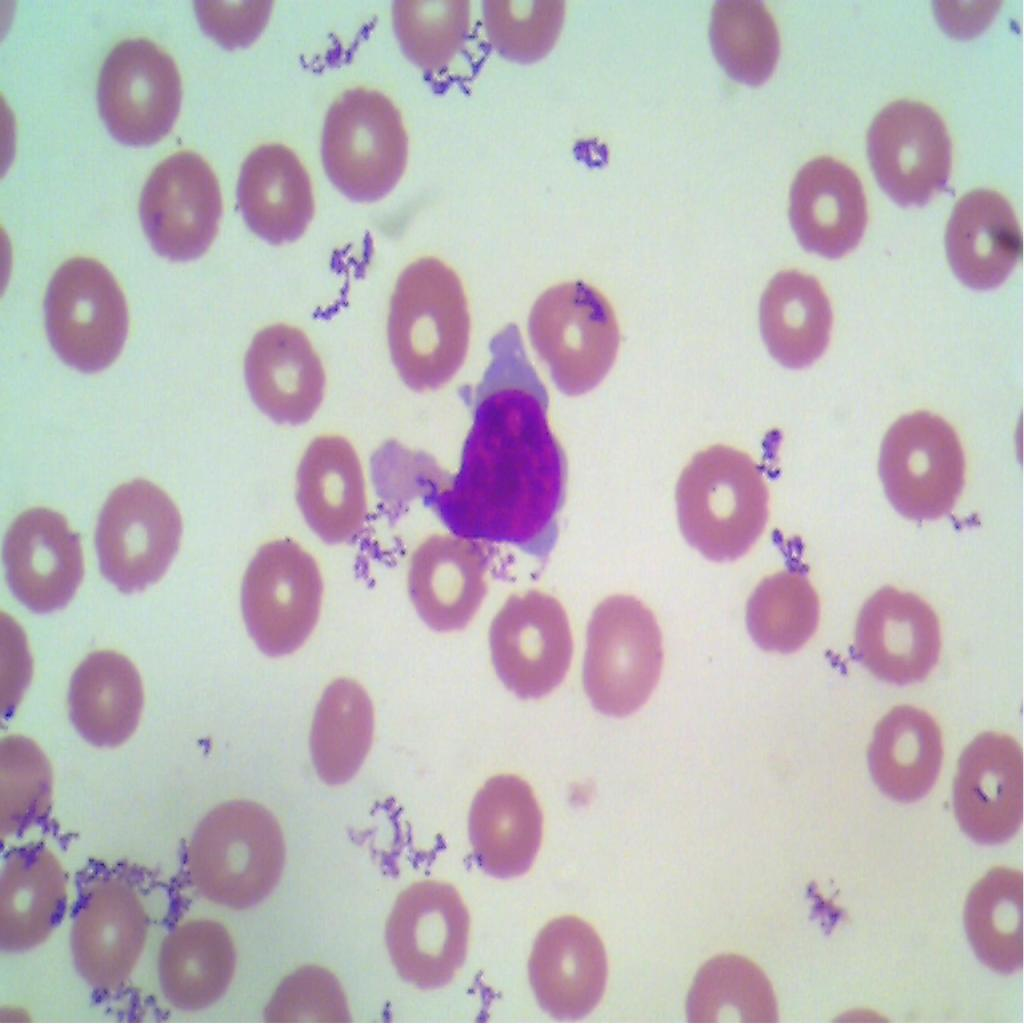Eritrosit: (666, 432, 776, 561), (90, 28, 196, 157), (383, 251, 475, 399), (455, 761, 553, 898), (89, 478, 190, 610), (573, 584, 664, 728), (131, 142, 231, 272), (39, 248, 135, 382), (182, 790, 288, 906), (238, 538, 328, 672), (526, 271, 618, 401), (486, 584, 578, 714), (858, 92, 959, 210), (321, 74, 409, 208), (749, 258, 844, 381), (378, 874, 473, 994), (870, 411, 968, 527), (226, 134, 322, 248), (855, 699, 958, 804), (0, 501, 88, 621), (934, 178, 1023, 296), (150, 900, 238, 1018), (398, 530, 486, 648), (59, 874, 149, 988), (241, 311, 326, 428), (524, 900, 604, 1023), (290, 428, 372, 545), (958, 847, 1023, 988), (858, 581, 942, 688), (302, 669, 378, 787), (782, 154, 866, 260), (949, 724, 1023, 842), (69, 645, 146, 754), (0, 838, 68, 958), (746, 568, 826, 666), (703, 0, 783, 97)
Limfoblast: (429, 394, 576, 556)
